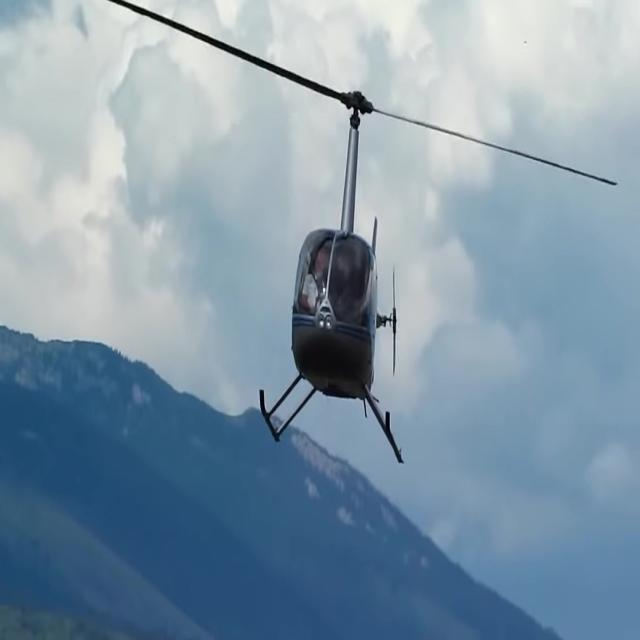CIV_HELO: (256, 84, 409, 471)
